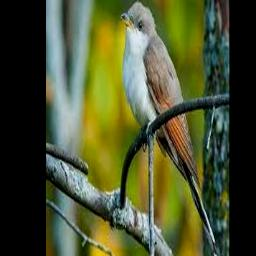Cuckoo: (121, 0, 223, 256)
